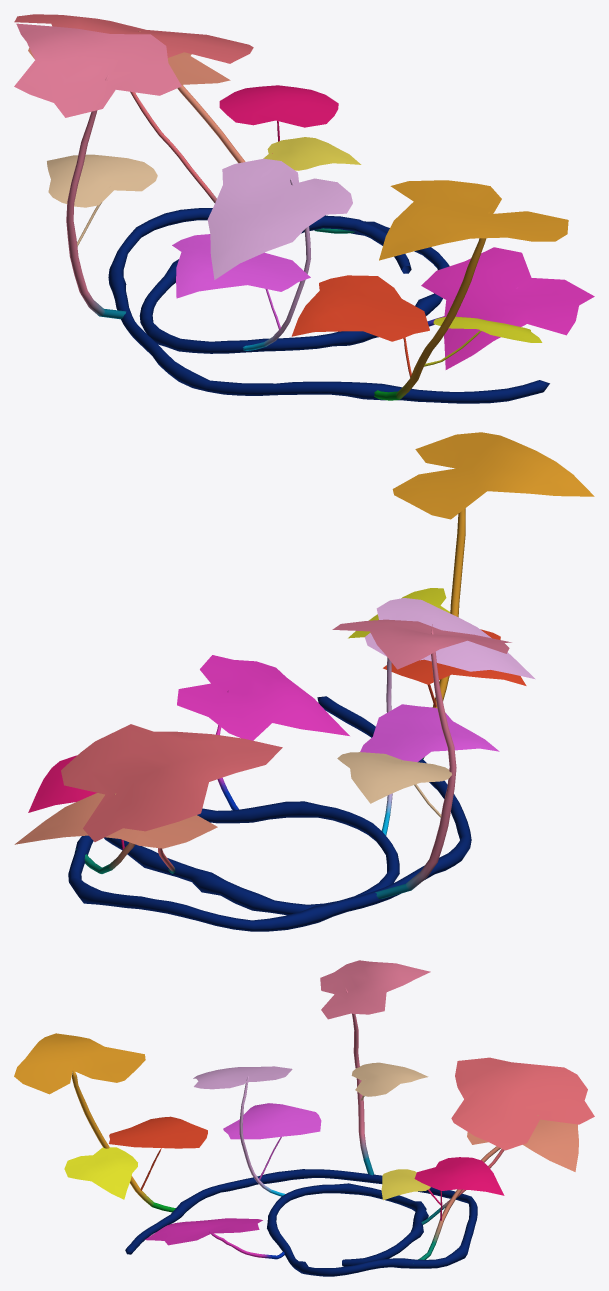
The model's file is English_Ivy_xfcnebhqx_High_xfcnebhqx_VarH_LOD0.fbx.
3 renders of one model, top to bottom at view 1: azimuth 30°, elevation 25°; view 2: azimuth 150°, elevation 25°; view 3: azimuth 270°, elevation 25°, orthographic. The views are drawn at different scales.
Visible parts, largest first — view 1: _951f_VarH_LOD0; view 2: _951f_VarH_LOD0; view 3: _951f_VarH_LOD0.
Part boxes in pixels (left/top/right/bottom): _951f_VarH_LOD0: left=14, top=14, right=594, bottom=403; _951f_VarH_LOD0: left=14, top=432, right=594, bottom=931; _951f_VarH_LOD0: left=14, top=960, right=594, bottom=1276.
Bounding box in the file's own units: 19.34 × 12.82 × 33.19.
